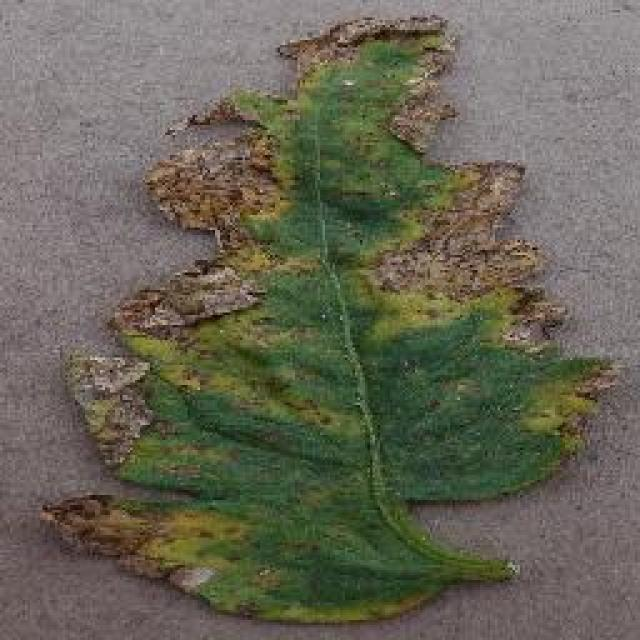Tomato___Bacterial_spot: (33, 12, 625, 631)
